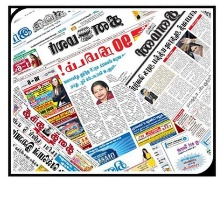news_paper: (10, 9, 213, 174), (109, 8, 214, 156), (7, 87, 101, 174)
